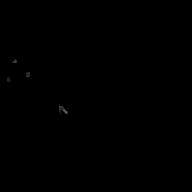v: (3, 55, 31, 83)
